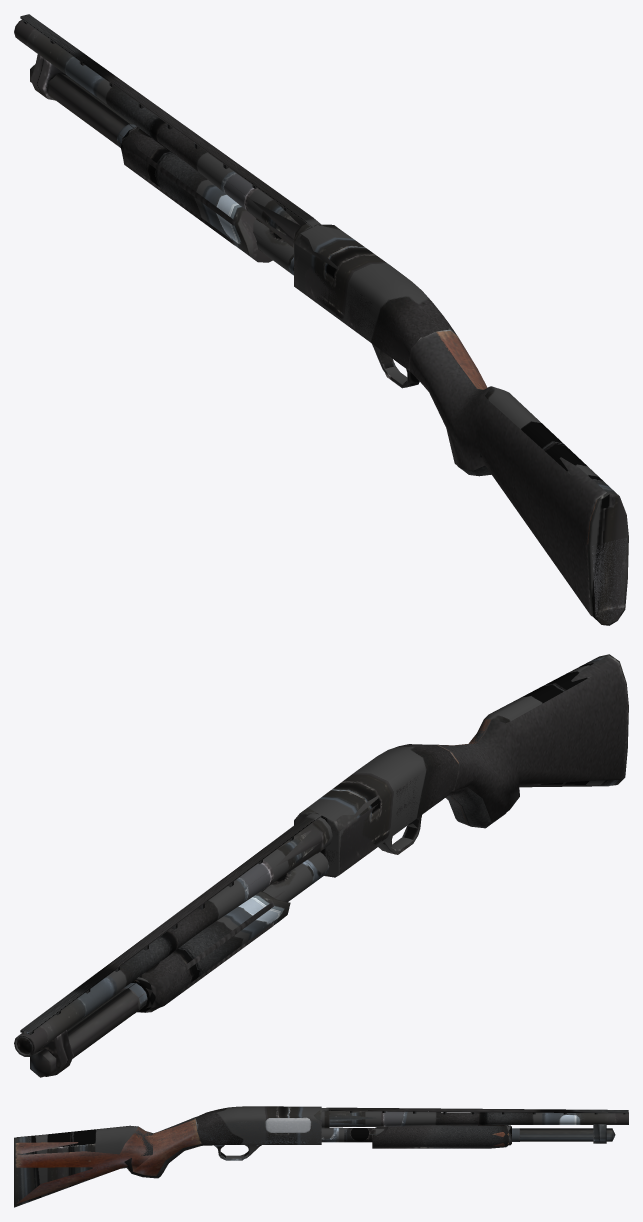
The model's file is Remington_Wood_Black.fbx.
3 renders of one model, top to bottom at view 1: azimuth 30°, elevation 25°; view 2: azimuth 150°, elevation 25°; view 3: azimuth 270°, elevation 25°, orthographic. The views are drawn at different scales.
Parts seen in each view (by area): view 1: Remington870, Remington_Plastic_Black, Remington_Wood_Black, Remington_Wood_Black_Sawed; view 2: Remington870, Remington_Plastic_Black, Remington_Wood_Black; view 3: Remington870, Remington_Wood_Black, Remington_Wood_Black_Sawed, Remington_Plastic_Black.
Part boxes in pixels (x1,y1,x2,y2): Remington870: (14, 14, 628, 625); Remington_Plastic_Black: (30, 65, 606, 616); Remington_Wood_Black: (30, 54, 626, 621); Remington_Wood_Black_Sawed: (437, 328, 487, 389); Remington870: (14, 654, 628, 1056); Remington_Plastic_Black: (32, 655, 628, 1073); Remington_Wood_Black: (17, 719, 490, 1077); Remington870: (14, 1106, 628, 1207); Remington_Wood_Black: (15, 1109, 615, 1203); Remington_Wood_Black_Sawed: (132, 1119, 201, 1176); Remington_Plastic_Black: (16, 1117, 612, 1141).
Bounding box in the file's own units: 0.0285 × 0.6067 × 0.1071.
